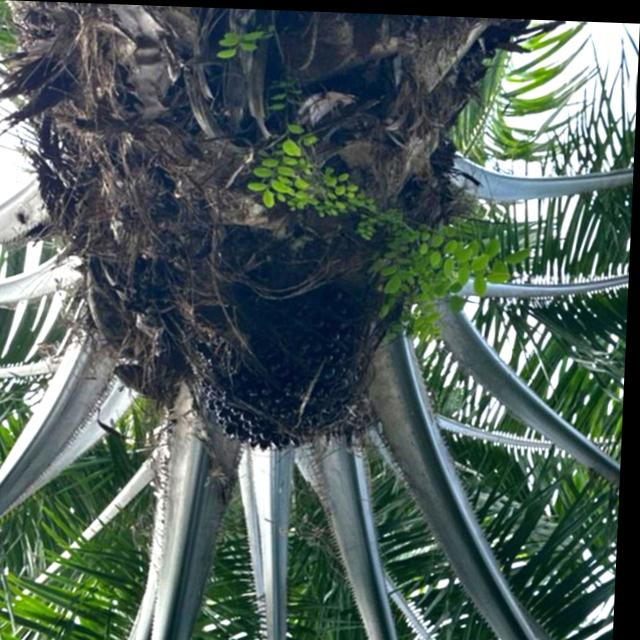almost: (193, 276, 379, 464)
